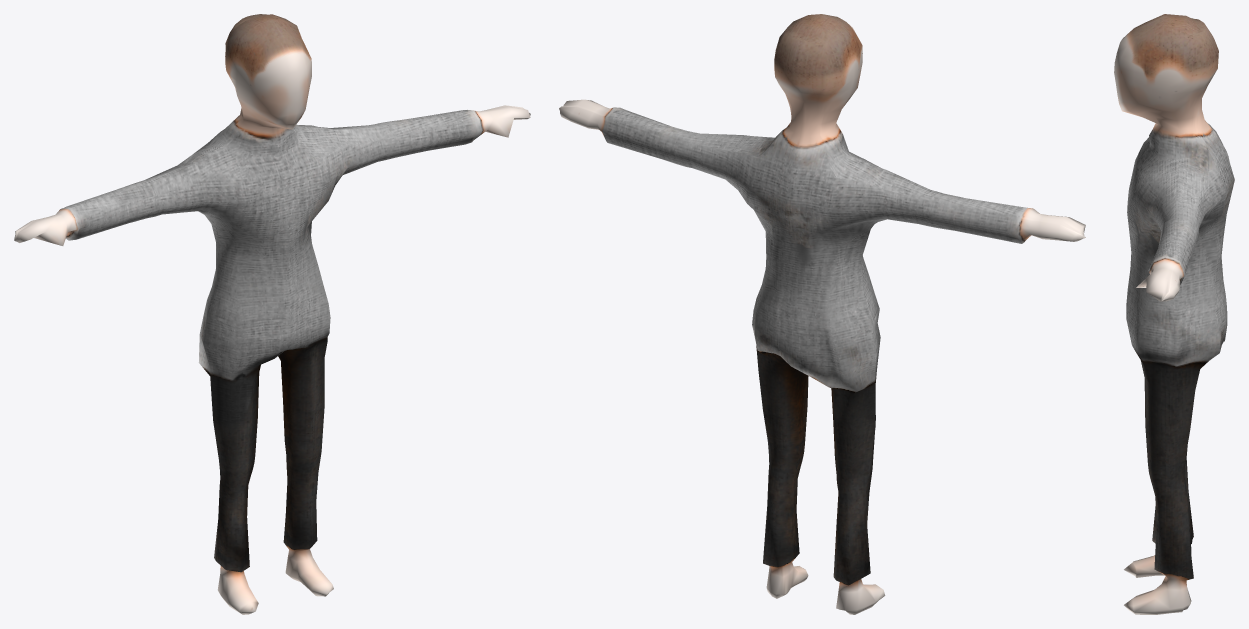
Rendered from character.obj.
3 renders of one model, left to right at view 1: azimuth 30°, elevation 25°; view 2: azimuth 150°, elevation 25°; view 3: azimuth 270°, elevation 25°, orthographic. The views are drawn at different scales.
Visible parts, largest first — view 1: RetopoGroup2; view 2: RetopoGroup2; view 3: RetopoGroup2.
Boxes of the visible parts, x1,y1,x2,y2 form: RetopoGroup2: (14, 14, 530, 614); RetopoGroup2: (559, 14, 1085, 614); RetopoGroup2: (1114, 14, 1234, 614).
Bounding box in the file's own units: 3.61 × 3.84 × 0.7284.
